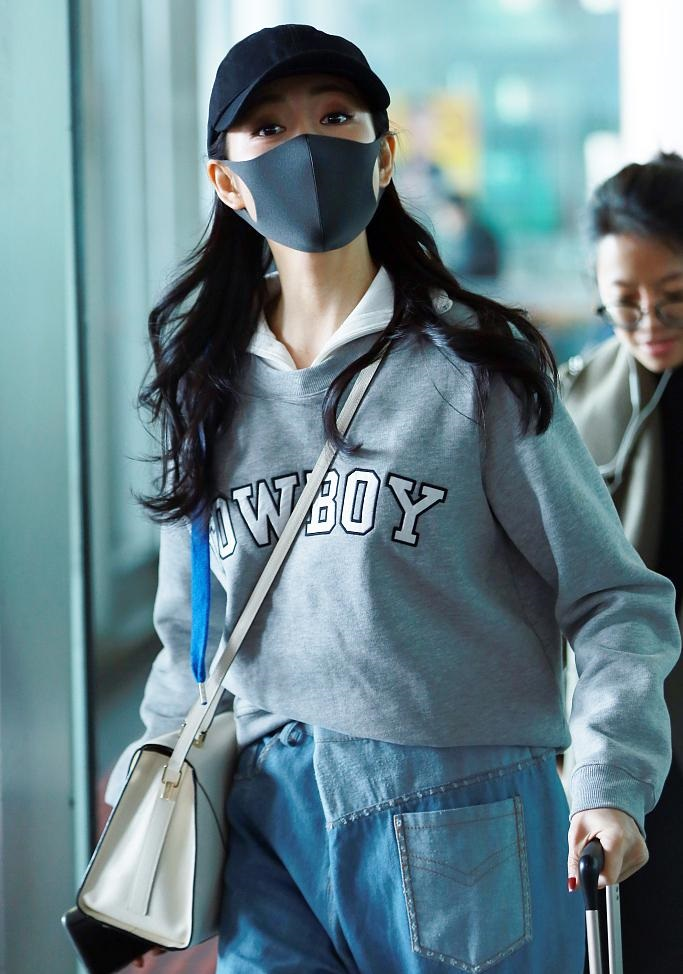face: (602, 234, 682, 372)
face_mask: (236, 72, 377, 253)
